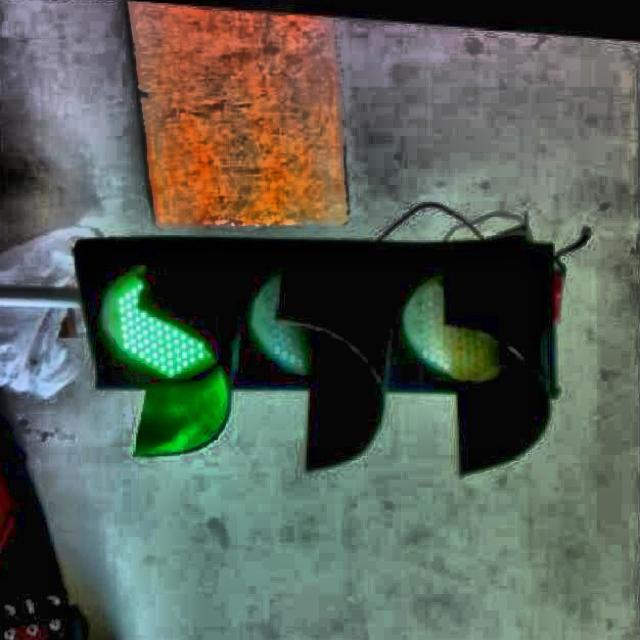green: (76, 234, 555, 430)
